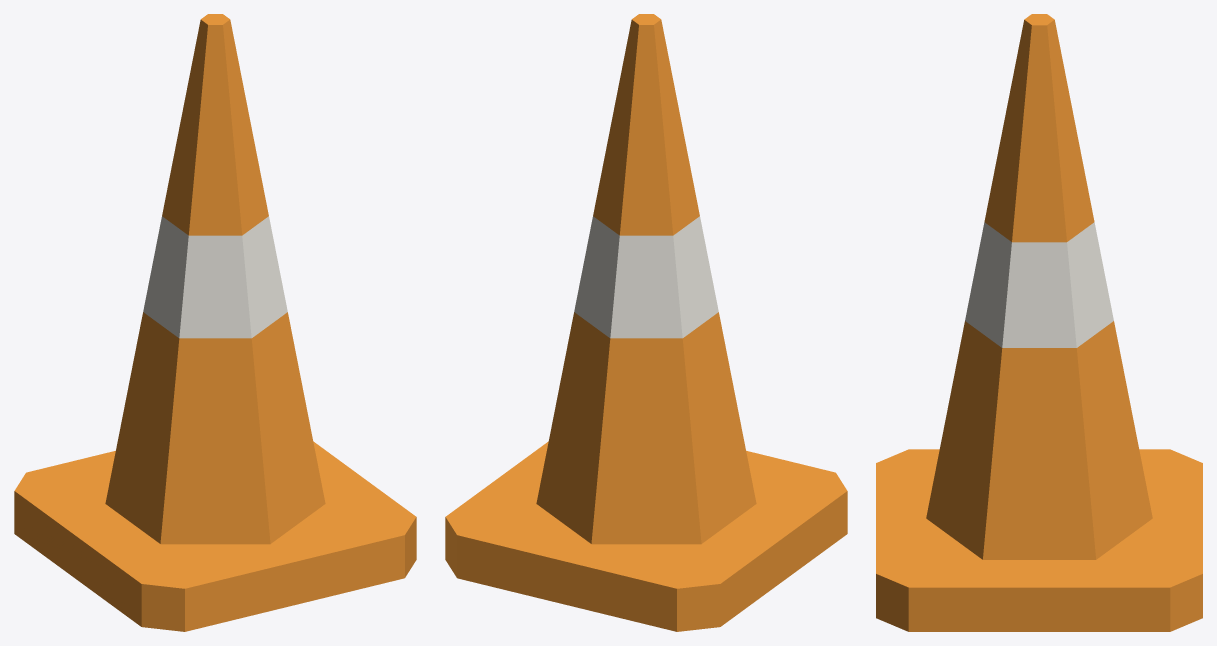
The model's file is traffic_cone_d2.glb.
3 renders of one model, left to right at view 1: azimuth 30°, elevation 25°; view 2: azimuth 150°, elevation 25°; view 3: azimuth 270°, elevation 25°, orthographic. The views are drawn at different scales.
Parts seen in each view (by area): view 1: traffic_cone_d2_6sided_body_with_white_stripe, traffic_cone_d2_chamfered_square_base; view 2: traffic_cone_d2_6sided_body_with_white_stripe, traffic_cone_d2_chamfered_square_base; view 3: traffic_cone_d2_6sided_body_with_white_stripe, traffic_cone_d2_chamfered_square_base.
Boxes of the visible parts, bbox=[...] form: traffic_cone_d2_6sided_body_with_white_stripe: bbox=[105, 14, 325, 544]; traffic_cone_d2_chamfered_square_base: bbox=[14, 441, 416, 631]; traffic_cone_d2_6sided_body_with_white_stripe: bbox=[536, 14, 756, 544]; traffic_cone_d2_chamfered_square_base: bbox=[445, 441, 847, 631]; traffic_cone_d2_6sided_body_with_white_stripe: bbox=[926, 14, 1152, 559]; traffic_cone_d2_chamfered_square_base: bbox=[876, 449, 1202, 631].
Size of the model in its own units: 0.3 by 0.55 by 0.3.
